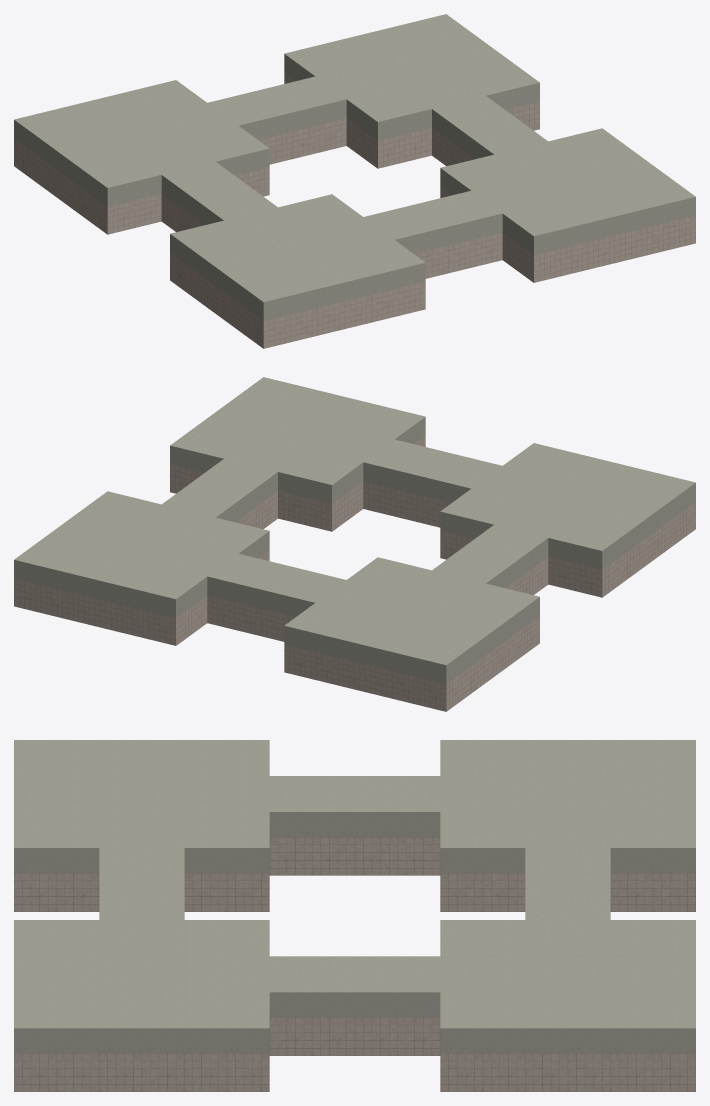
The model's file is Bond_Level_Test5.fbx.
3 renders of one model, top to bottom at view 1: azimuth 30°, elevation 25°; view 2: azimuth 150°, elevation 25°; view 3: azimuth 270°, elevation 25°, orthographic. The views are drawn at different scales.
Parts seen in each view (by area): view 1: LevelTest01; view 2: LevelTest01; view 3: LevelTest01.
Boxes of the visible parts, x1,y1,x2,y2 form: LevelTest01: (14, 14, 695, 348); LevelTest01: (14, 377, 695, 711); LevelTest01: (14, 740, 695, 1091).
Bounding box in the file's own units: 3200 × 330 × 3200.
